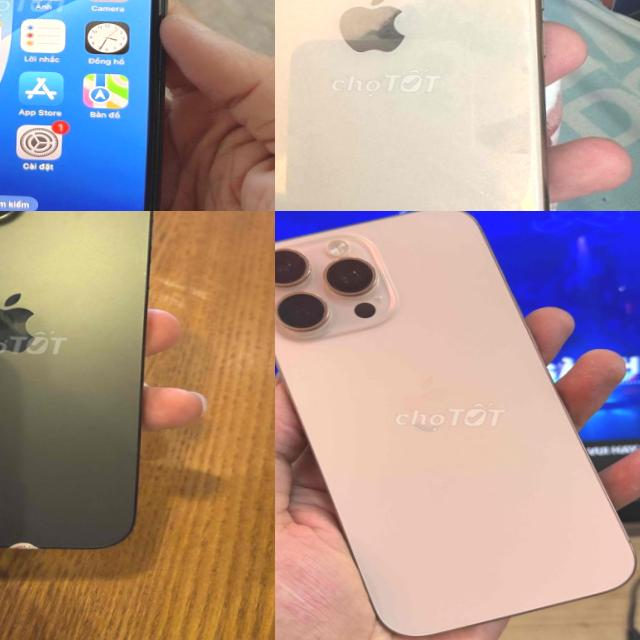gen_15: (0, 211, 160, 573)
gen_16: (275, 211, 633, 635)
gen_x_xs: (275, 0, 565, 211), (0, 0, 168, 211)
